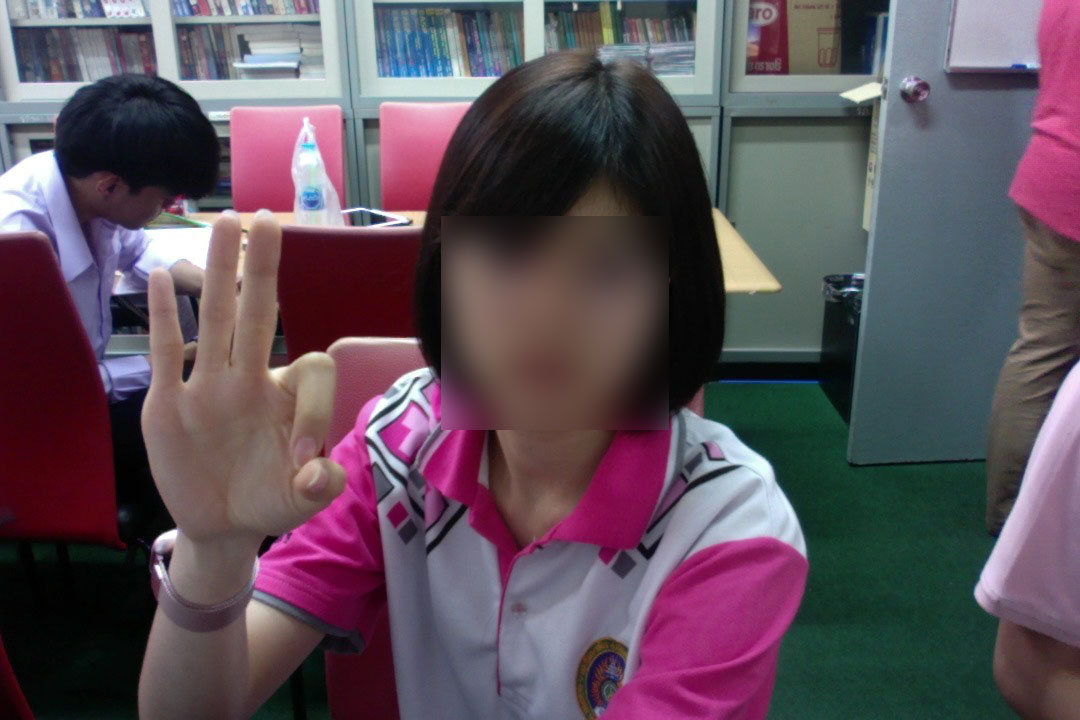for: (124, 200, 358, 564)
